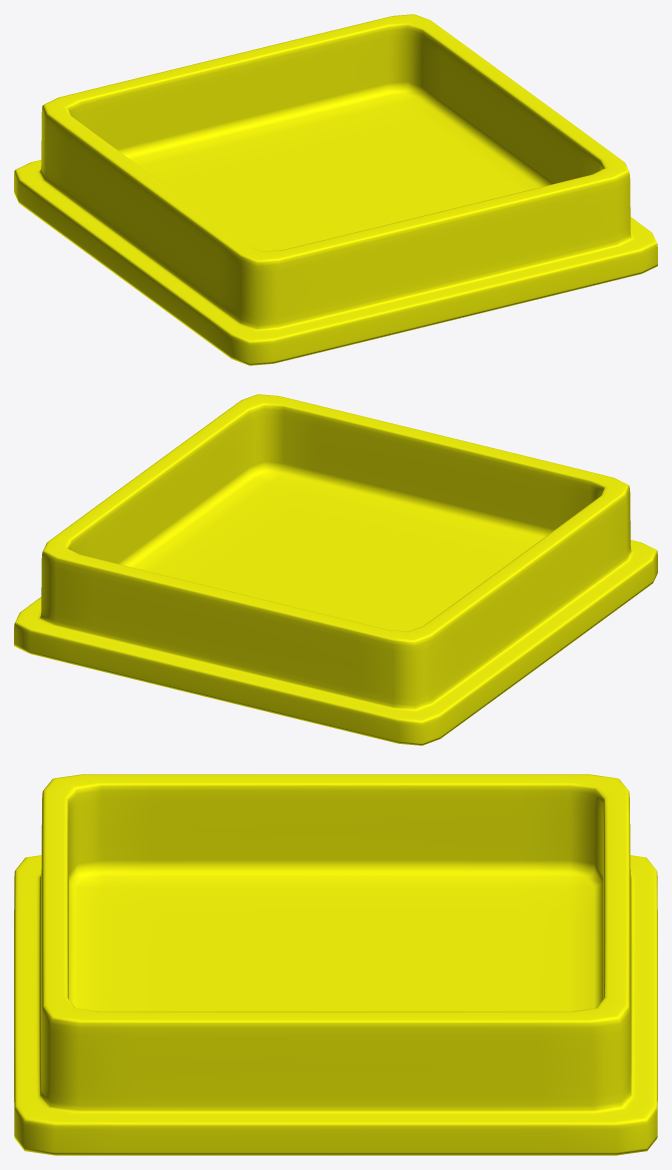
3 renders of one model, top to bottom at view 1: azimuth 30°, elevation 25°; view 2: azimuth 150°, elevation 25°; view 3: azimuth 270°, elevation 25°, orthographic. The views are drawn at different scales.
Parts seen in each view (by area): view 1: pasted__pCube306; view 2: pasted__pCube306; view 3: pasted__pCube306.
Boxes of the visible parts, <box> form: pasted__pCube306: <box>14,14,657,365</box>; pasted__pCube306: <box>14,394,657,745</box>; pasted__pCube306: <box>14,774,657,1155</box>.
Bounding box in the file's own units: 0.9998 × 0.2141 × 0.9998.
